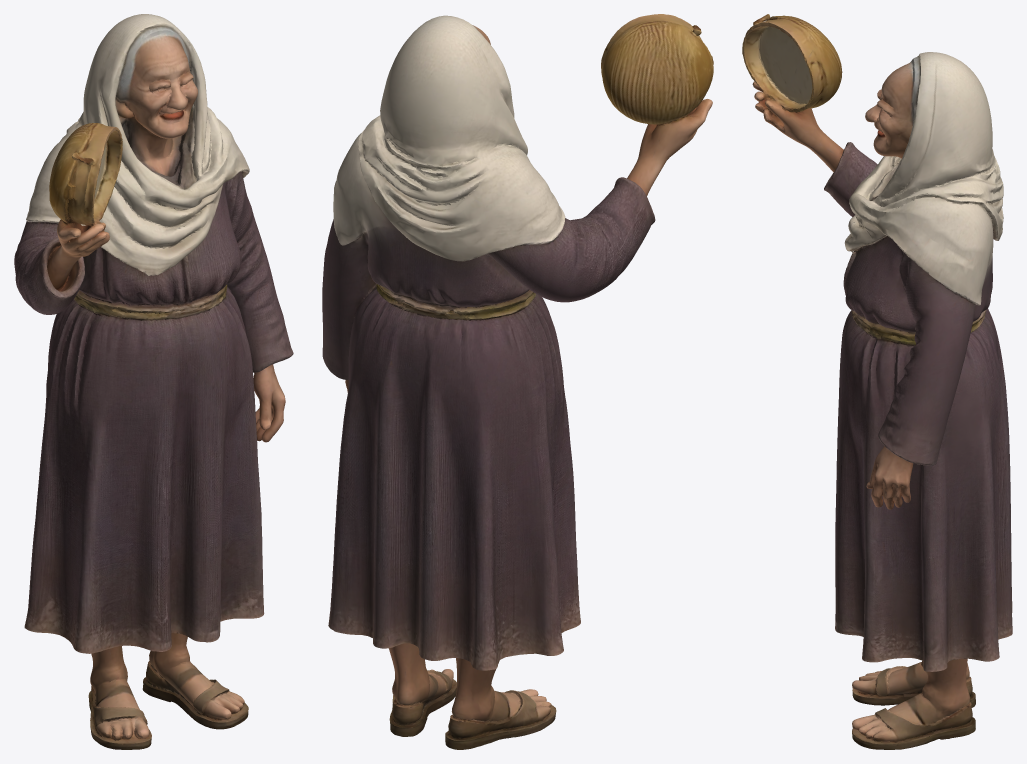
File: miriam.glb
The picture shows the model from 3 angles, left to right: view 1: azimuth 30°, elevation 25°; view 2: azimuth 150°, elevation 25°; view 3: azimuth 270°, elevation 25°; orthographic projection. The views are drawn at different scales.
Visible parts, largest first — view 1: model; view 2: model; view 3: model.
Boxes of the visible parts, x1,y1,x2,y2 form: model: (14, 14, 293, 749); model: (322, 14, 713, 749); model: (742, 14, 1012, 749).
Bounding box in the file's own units: 0.7881 × 1.71 × 0.6326.
Materials: 1 (1 with a texture image).
